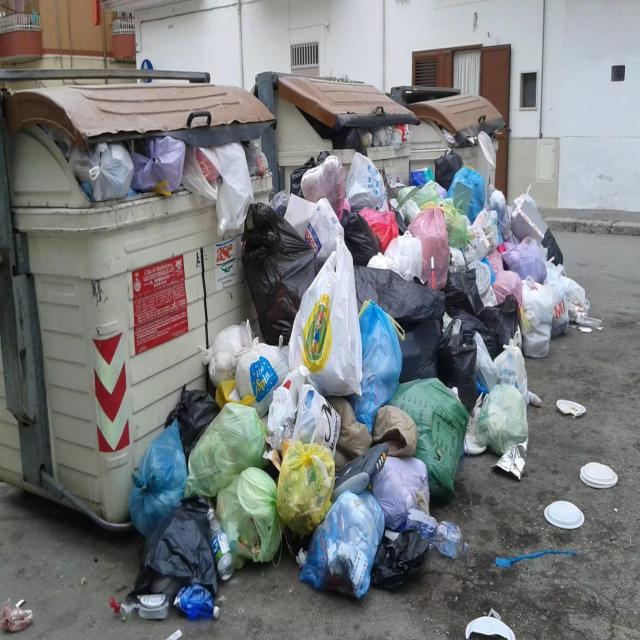Anorganik: (315, 474, 469, 640)
